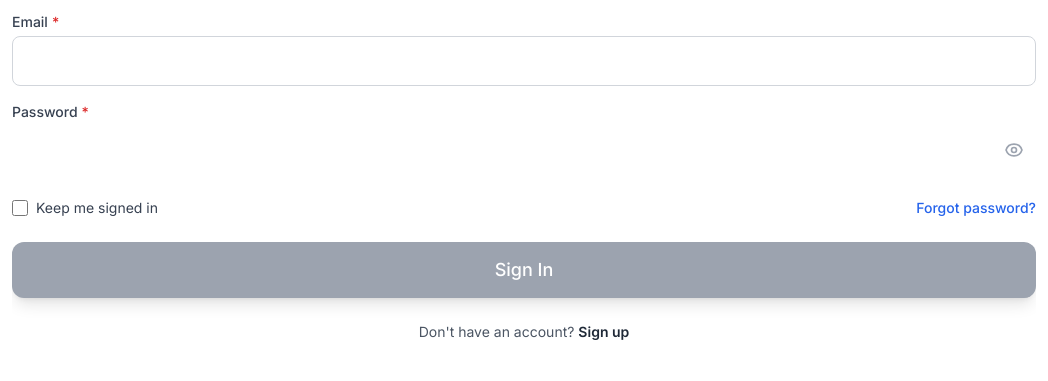
Test: LoginForm › shows validation error when email format is invalid
Type "invalid-email" into the field labelled "Email*" at [524, 61], box [12,36,1036,86]
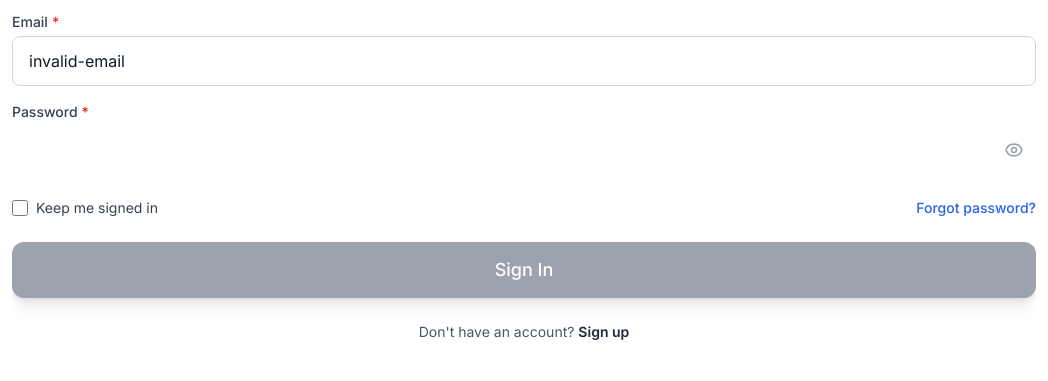
Type "password123" into the password field labelled "Password*" at [524, 150], box [12,126,1036,174]
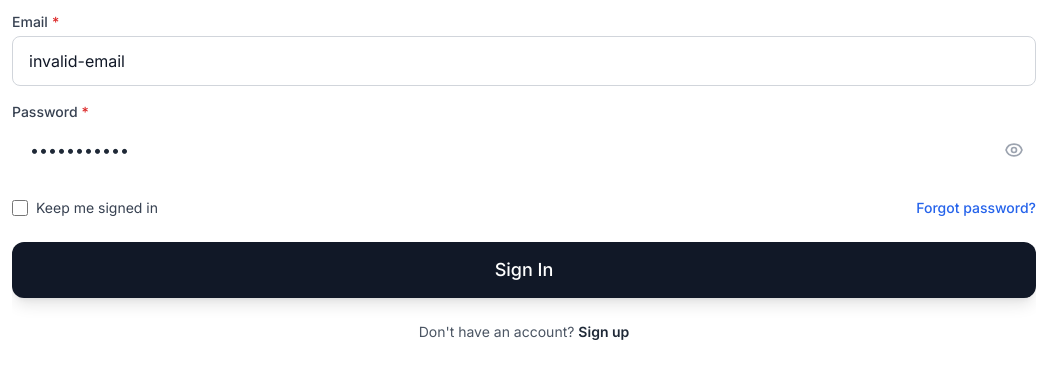
Submit the form
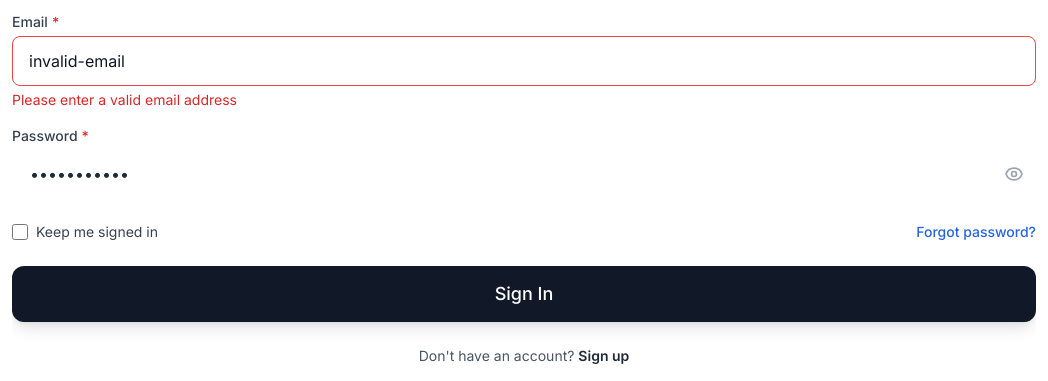
Check: the text "Please enter a valid email address" is shown, box [12,91,237,108]
